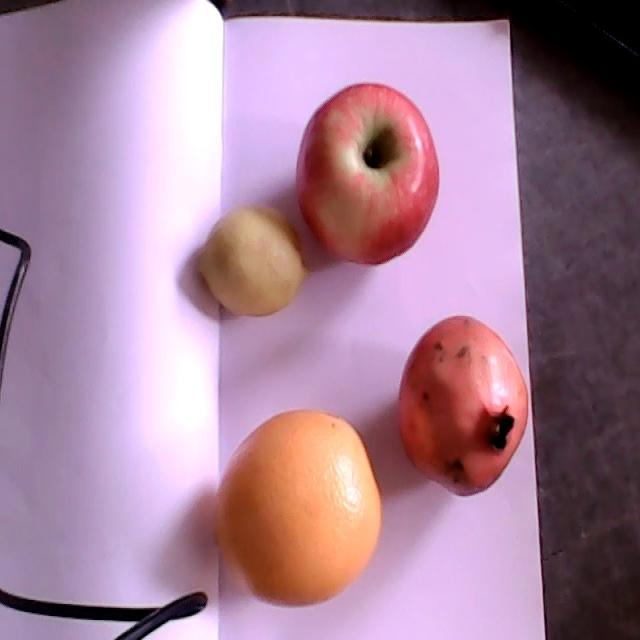apple: (296, 83, 440, 266)
lemon: (198, 204, 312, 316)
orange: (214, 412, 382, 605)
pomegranate: (396, 317, 529, 495)
